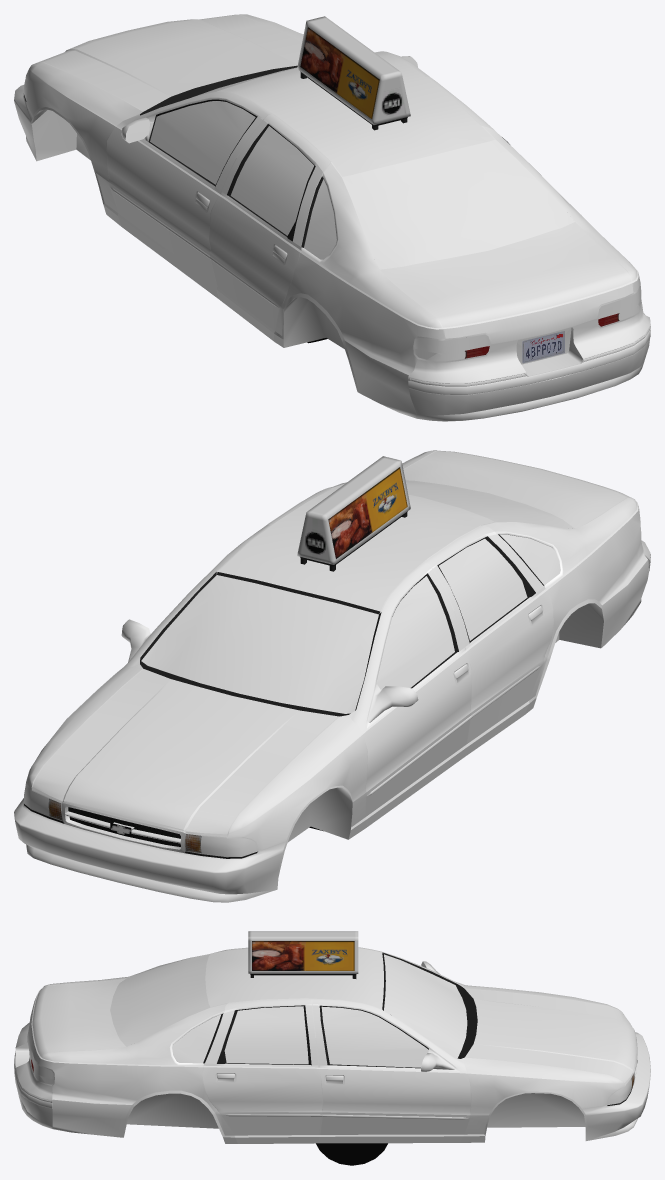
The model's file is MCLA_VA_TAXI_ZAXBYS1_96.glb.
The picture shows the model from 3 angles, top to bottom: view 1: azimuth 30°, elevation 25°; view 2: azimuth 150°, elevation 25°; view 3: azimuth 270°, elevation 25°; orthographic projection. The views are drawn at different scales.
Parts seen in each view (by area): view 1: va_taxi_zaxbys1_96/resources/vehicle/va_taxi_zaxbys1_96/body; view 2: va_taxi_zaxbys1_96/resources/vehicle/va_taxi_zaxbys1_96/body; view 3: va_taxi_zaxbys1_96/resources/vehicle/va_taxi_zaxbys1_96/body.
Boxes of the visible parts, x1,y1,x2,y2 form: va_taxi_zaxbys1_96/resources/vehicle/va_taxi_zaxbys1_96/body: (14, 14, 650, 421); va_taxi_zaxbys1_96/resources/vehicle/va_taxi_zaxbys1_96/body: (14, 450, 650, 902); va_taxi_zaxbys1_96/resources/vehicle/va_taxi_zaxbys1_96/body: (14, 931, 650, 1165).
Bounding box in the file's own units: 2.06 × 2.1 × 5.41.
Materials: 12 (8 with a texture image).
